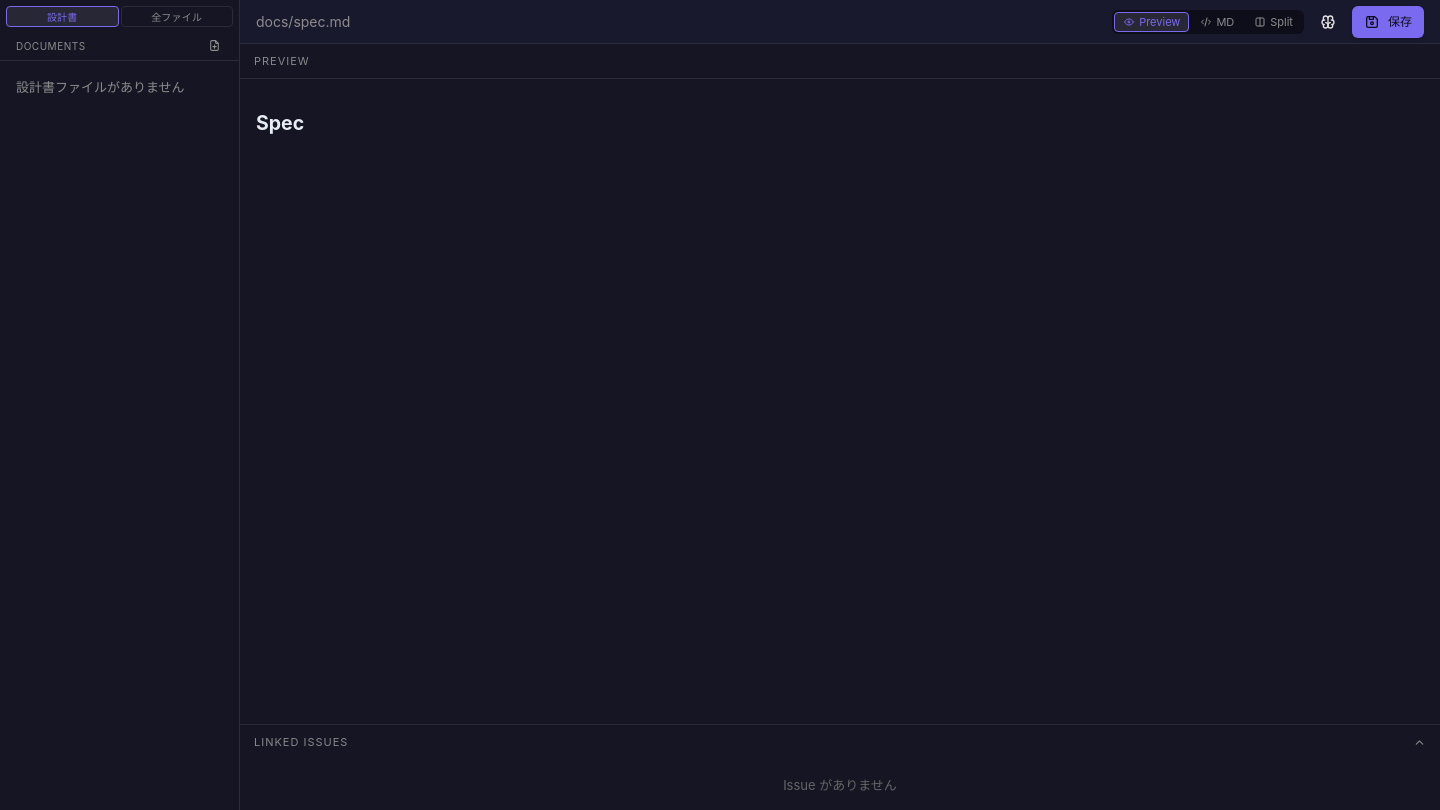
EditorScreen — ツールバー › MD ボタンクリックで MarkdownPreview が非表示になる
Note: MD モード → preview non-rendered
Click the button titled "MD" at (1217, 22), box x1=1191 y1=12 x2=1243 y2=32
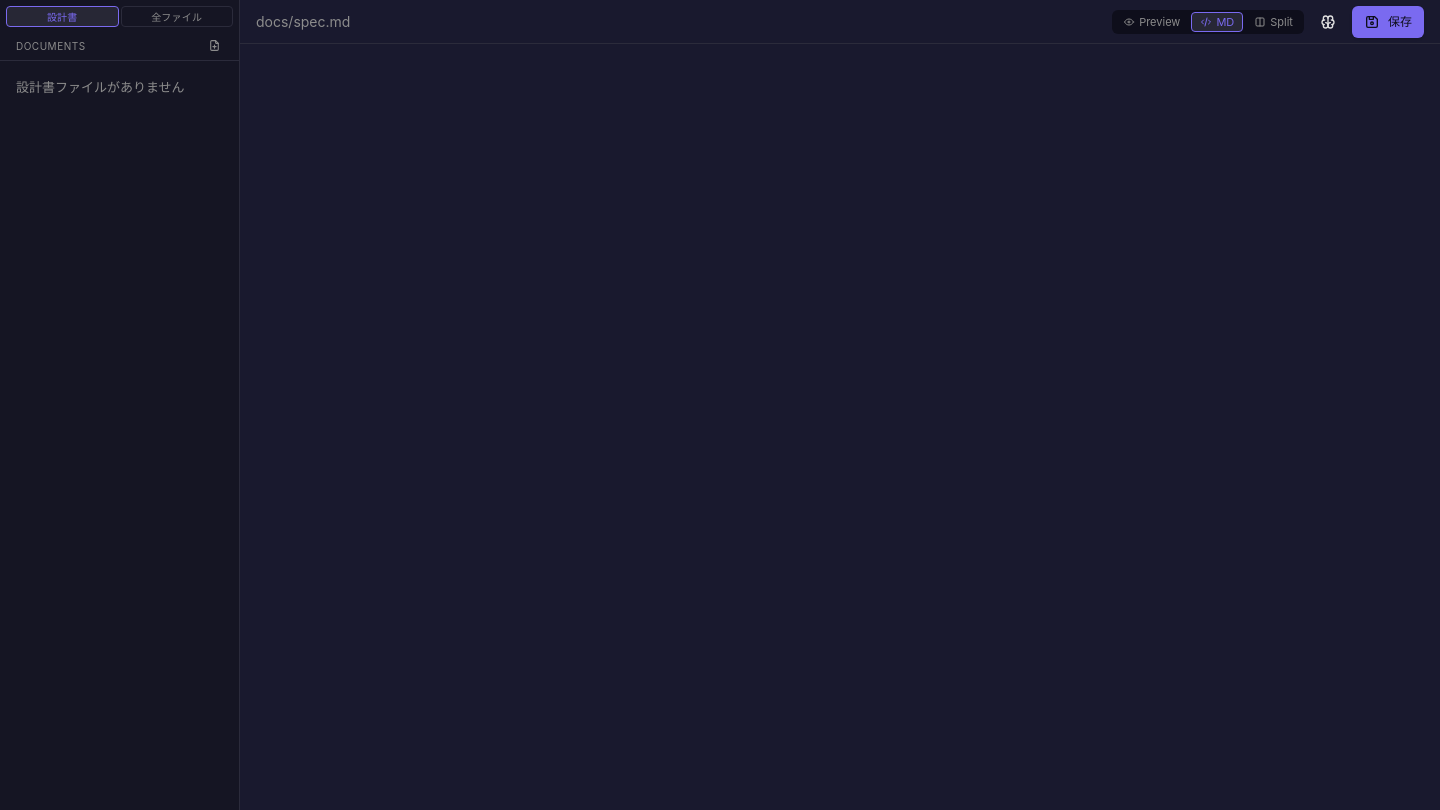
Expected: the element with test id "markdown-preview" is gone
